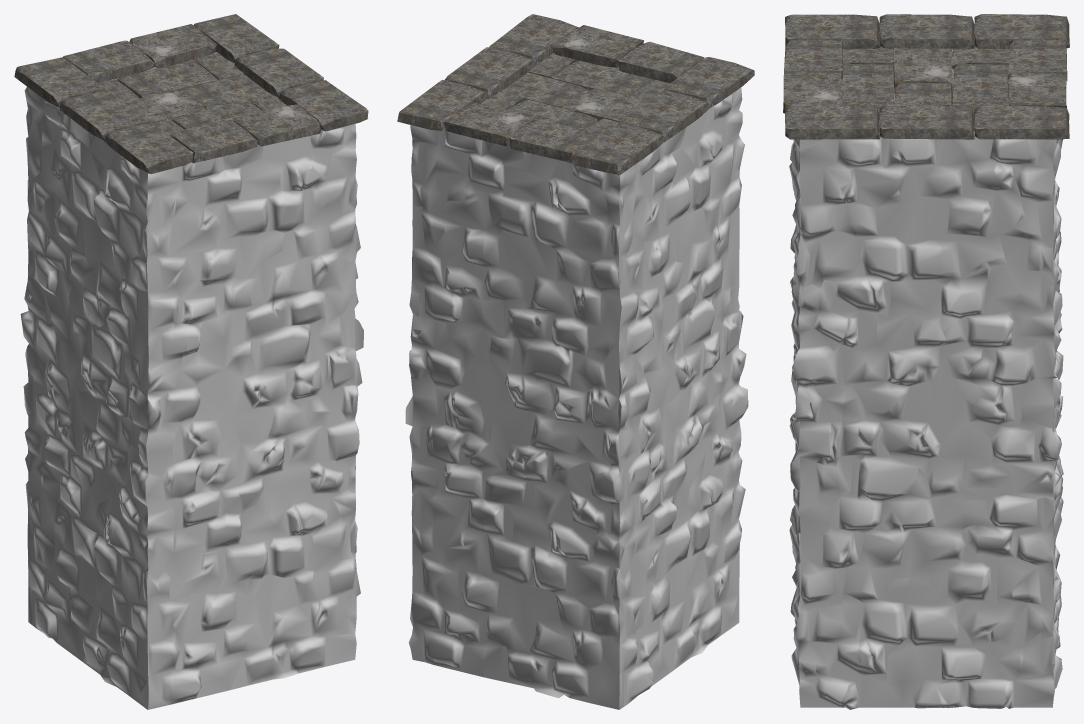
File: SM_Podium.fbx
3 views of the same model, side by side, from view 1: azimuth 30°, elevation 25°; view 2: azimuth 150°, elevation 25°; view 3: azimuth 270°, elevation 25° (orthographic). The views are drawn at different scales.
Parts seen in each view (by area): view 1: SM_Podium_LOD0; view 2: SM_Podium_LOD0; view 3: SM_Podium_LOD0.
Part boxes in pixels (<box>): SM_Podium_LOD0: <box>14,14,368,709</box>; SM_Podium_LOD0: <box>397,14,754,709</box>; SM_Podium_LOD0: <box>783,14,1069,709</box>.
Bounding box in the file's own units: 216 × 226 × 507.
